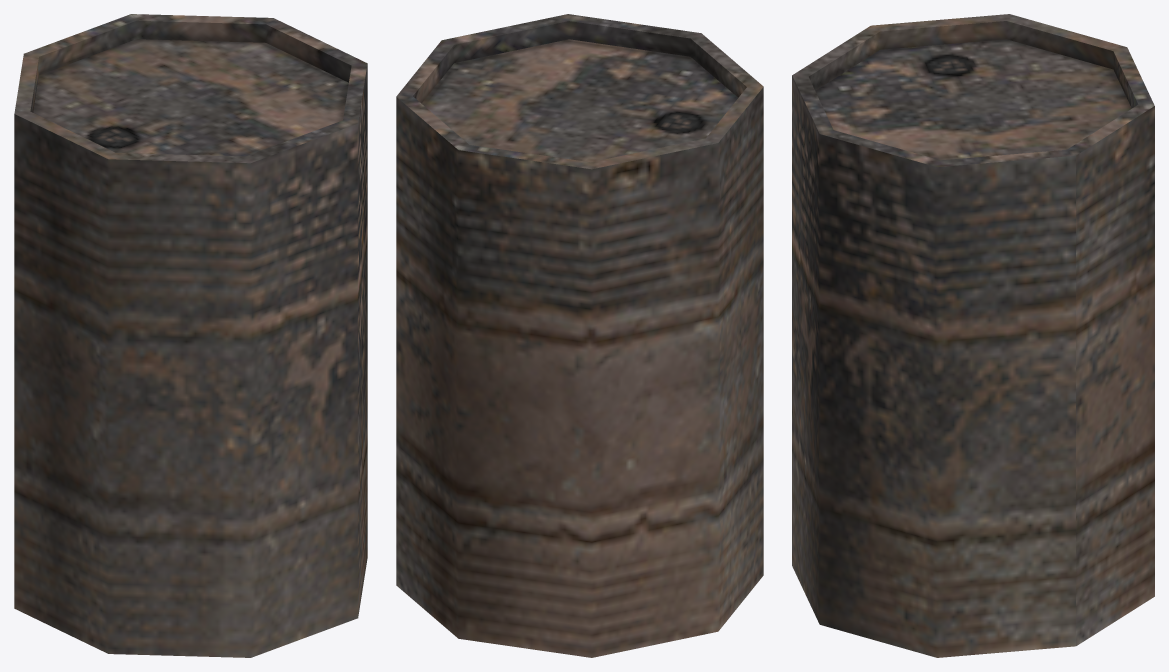
File: barrel.glb
3 renders of one model, left to right at view 1: azimuth 30°, elevation 25°; view 2: azimuth 150°, elevation 25°; view 3: azimuth 270°, elevation 25°, orthographic.
Parts seen in each view (by area): view 1: Cylinder.001; view 2: Cylinder.001; view 3: Cylinder.001.
Part boxes in pixels (box(x1,y1,x2,y2)): Cylinder.001: box(14, 14, 367, 657); Cylinder.001: box(396, 14, 763, 657); Cylinder.001: box(792, 14, 1154, 657).
Bounding box in the file's own units: 1.96 × 2.93 × 1.96.
1 material, 1 textured.
